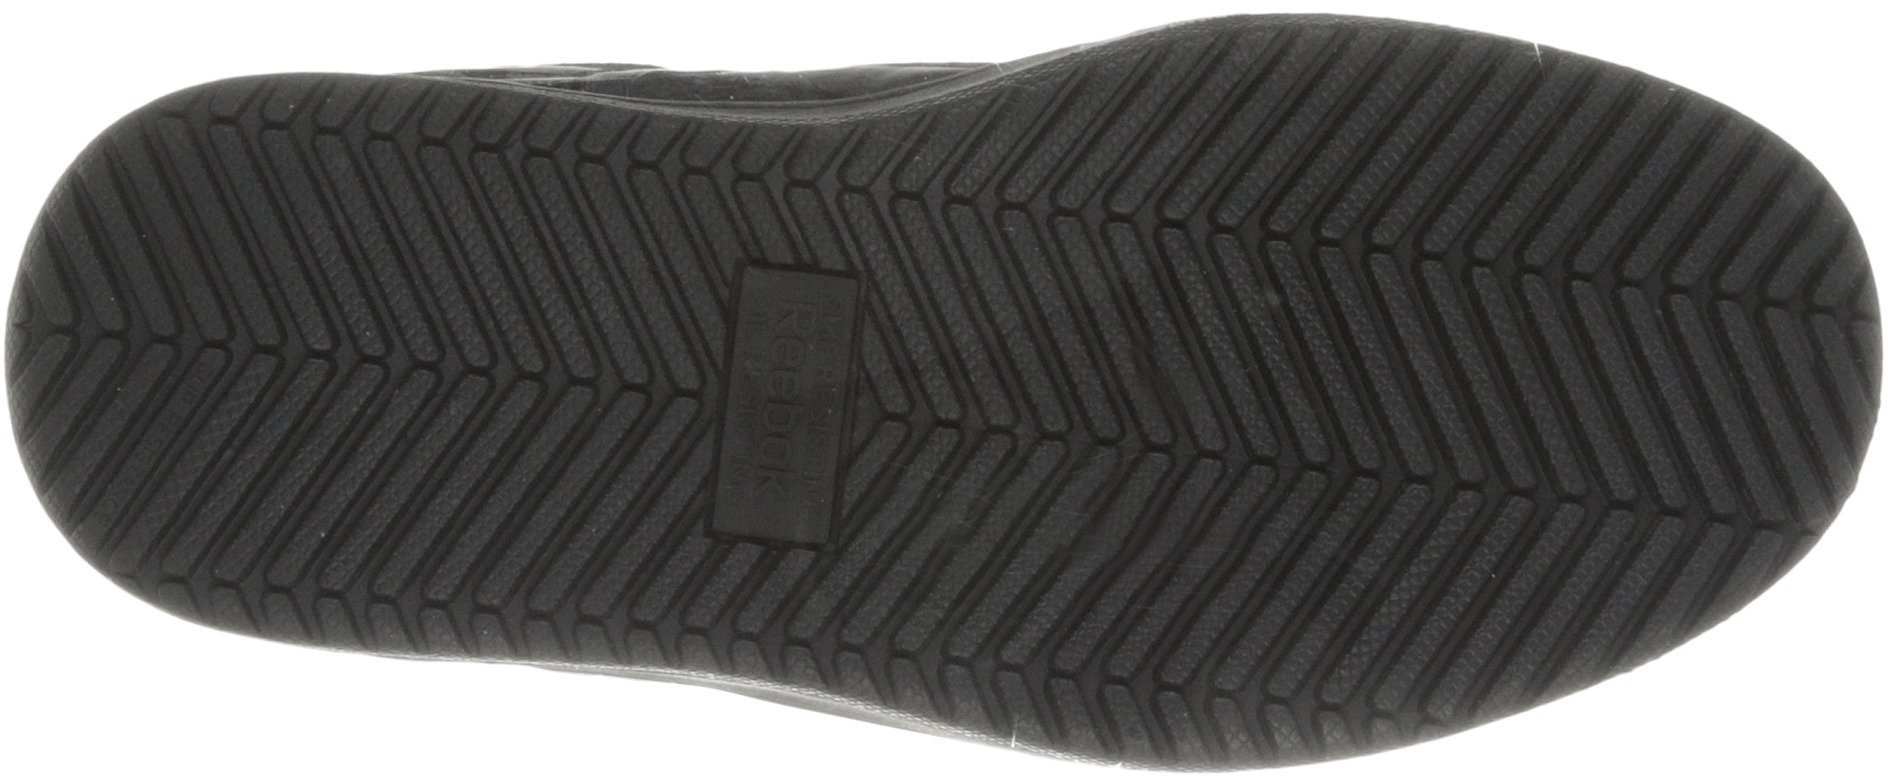chevron: (919, 134, 1351, 558), (1365, 117, 1731, 608), (104, 173, 520, 540), (193, 113, 544, 515)
quad: (919, 134, 1351, 558), (1365, 117, 1731, 608), (193, 113, 544, 515), (692, 244, 877, 559)
text: (692, 244, 877, 559), (713, 259, 844, 535)
